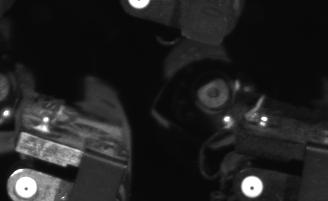fiber: (238, 173, 268, 201), (12, 174, 42, 200), (125, 1, 154, 13)
